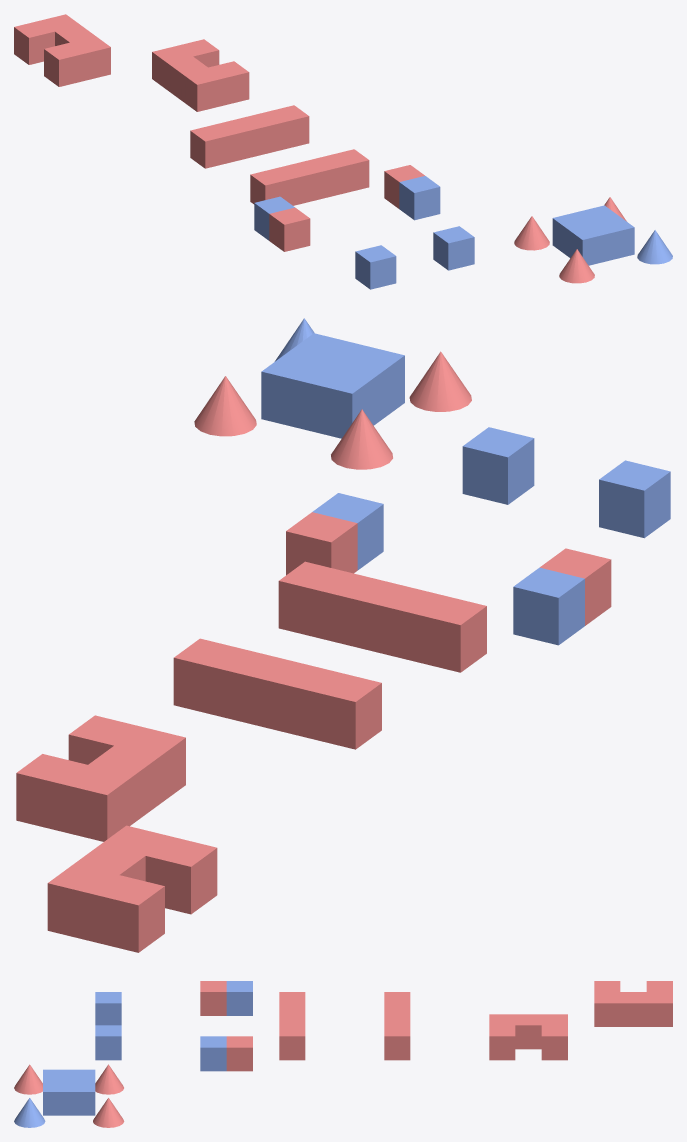
Rendered from map.glb.
The picture shows the model from 3 angles, top to bottom: view 1: azimuth 30°, elevation 25°; view 2: azimuth 150°, elevation 25°; view 3: azimuth 270°, elevation 25°; orthographic projection. The views are drawn at different scales.
Size of the model in its own units: 11.1 by 1 by 25.1.
